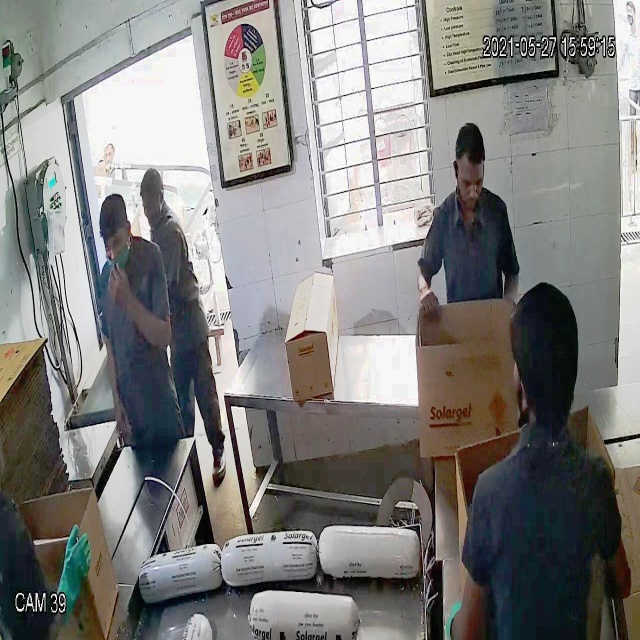Sin_gafas: (452, 165, 490, 198)
